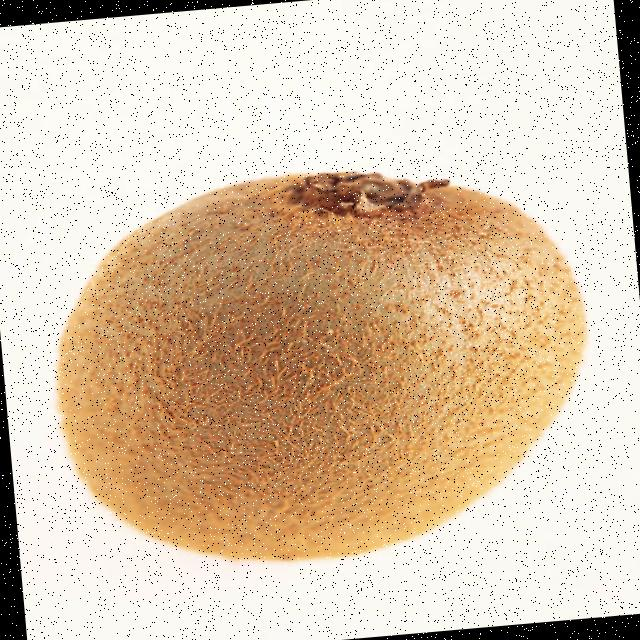kiwi: (59, 171, 585, 559)
